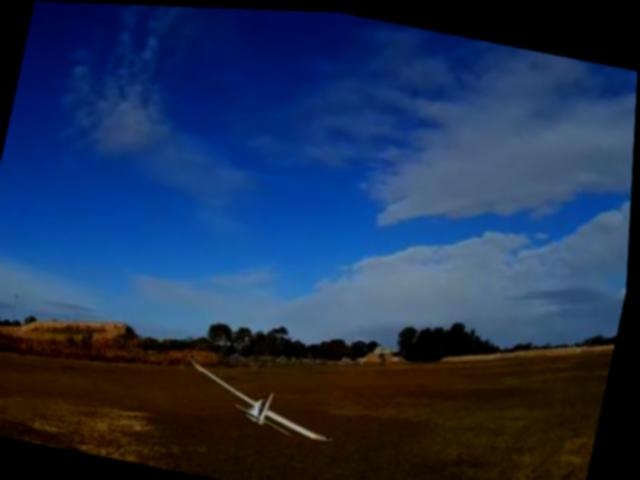uav: (174, 342, 355, 456)
